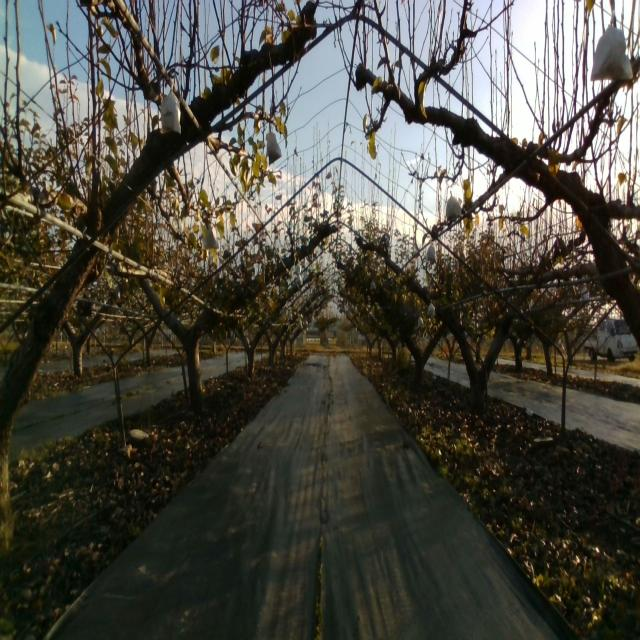pearbags: (590, 9, 634, 82), (159, 77, 181, 139), (264, 130, 283, 163), (446, 189, 463, 220), (203, 223, 220, 248)
